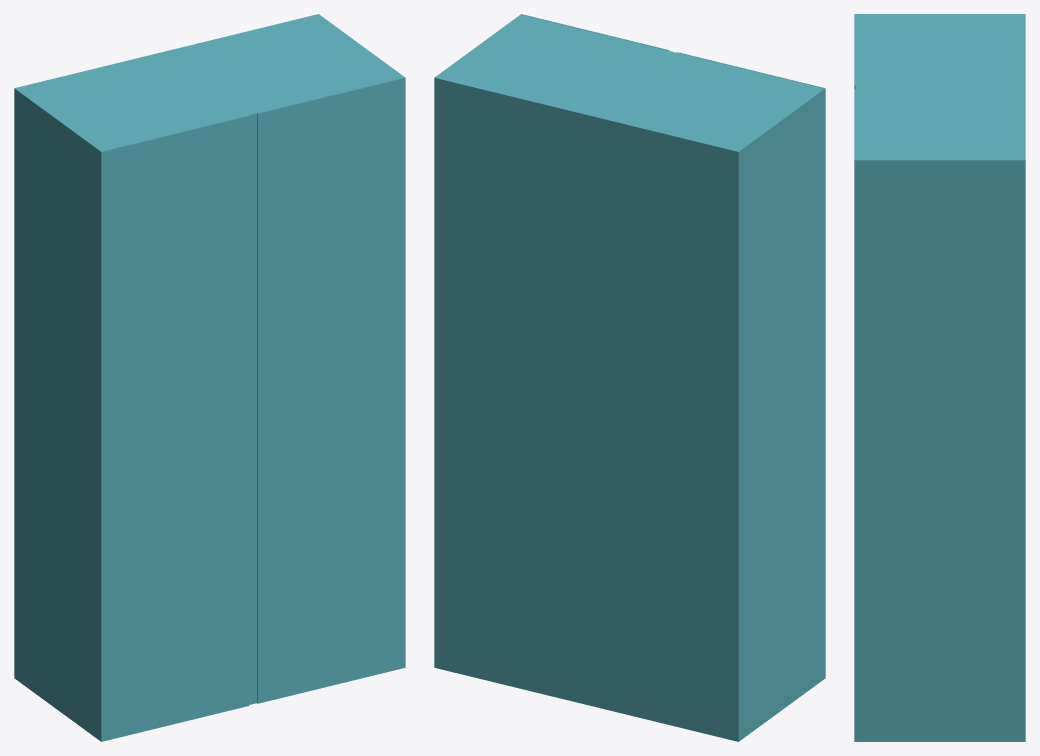
The model's file is Cupboard_large_1500_749_2800.fbx.
3 views of the same model, side by side, from view 1: azimuth 30°, elevation 25°; view 2: azimuth 150°, elevation 25°; view 3: azimuth 270°, elevation 25° (orthographic).
Visible parts, largest first — view 1: Cupboard_large_1500_749_2800; view 2: Cupboard_large_1500_749_2800; view 3: Cupboard_large_1500_749_2800.
Part boxes in pixels (x1,y1,x2,y2): Cupboard_large_1500_749_2800: (14, 14, 405, 741); Cupboard_large_1500_749_2800: (434, 14, 825, 741); Cupboard_large_1500_749_2800: (854, 14, 1025, 741).
Bounding box in the file's own units: 151 × 280 × 74.9.
